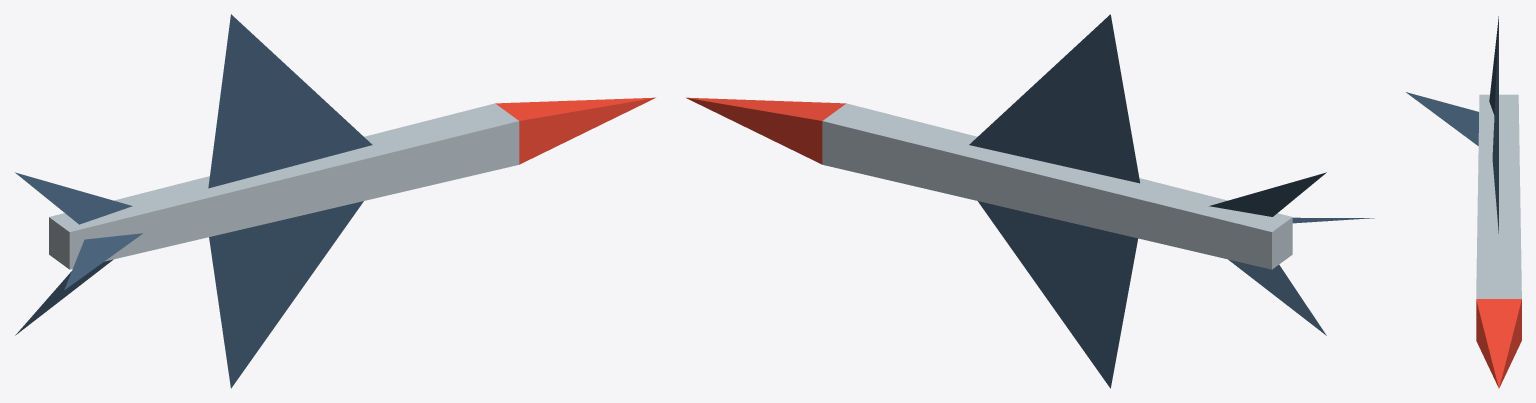
Rendered from simple-aircraft-missile.gltf.
3 views of the same model, side by side, from view 1: azimuth 30°, elevation 25°; view 2: azimuth 150°, elevation 25°; view 3: azimuth 270°, elevation 25° (orthographic). The views are drawn at different scales.
Size of the model in its own units: 8.6 by 4.8 by 1.43.
